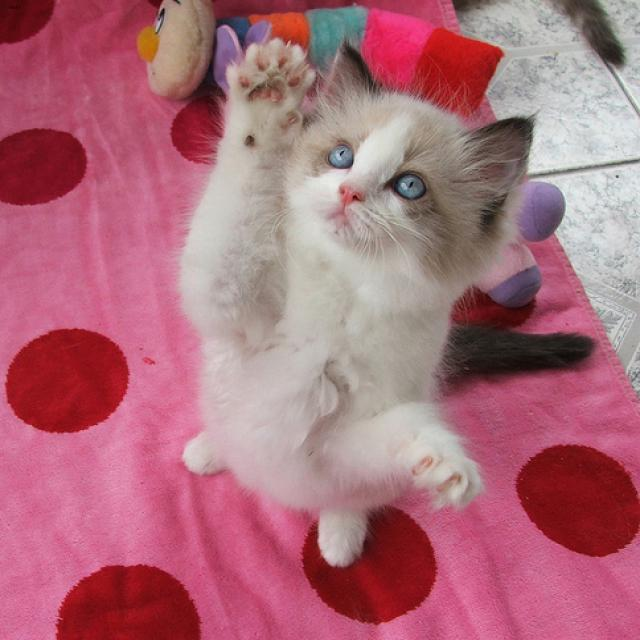Ragdoll: (258, 31, 540, 312)
